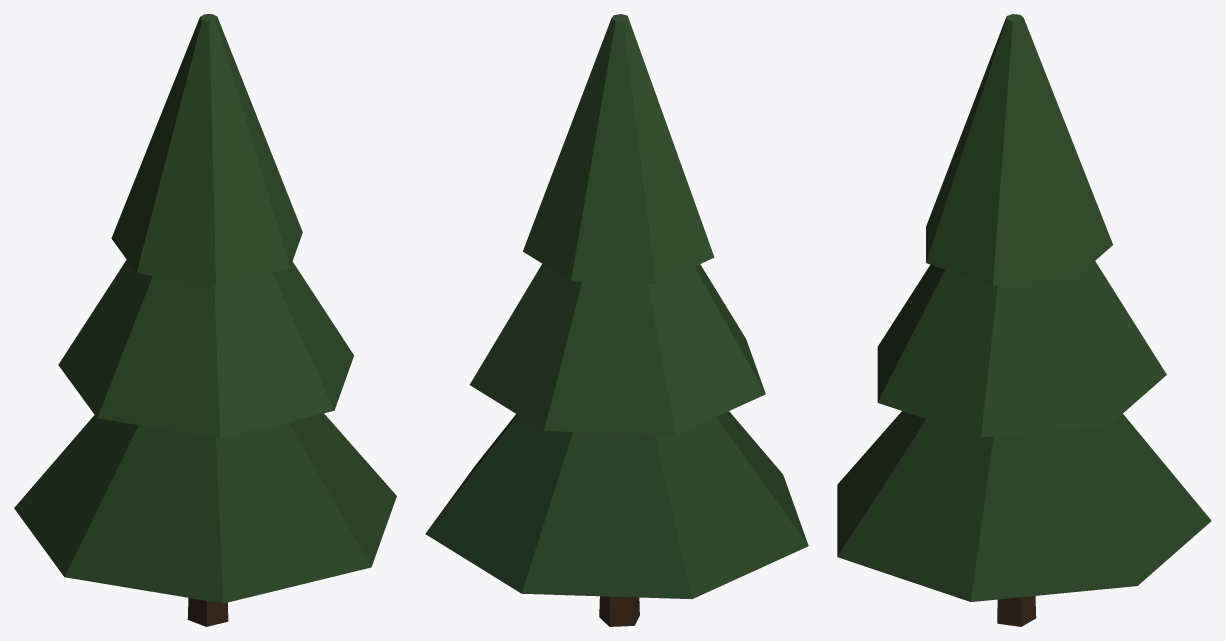
Rendered from tree_conifer.glb.
3 views of the same model, side by side, from view 1: azimuth 30°, elevation 25°; view 2: azimuth 150°, elevation 25°; view 3: azimuth 270°, elevation 25° (orthographic).
Visible parts, largest first — view 1: tree_conifer; view 2: tree_conifer; view 3: tree_conifer.
Boxes of the visible parts, <box> form: tree_conifer: <box>14,14,396,626</box>; tree_conifer: <box>425,14,808,626</box>; tree_conifer: <box>837,14,1211,626</box>.
Size of the model in its own units: 2.14 by 3.7 by 2.09.
